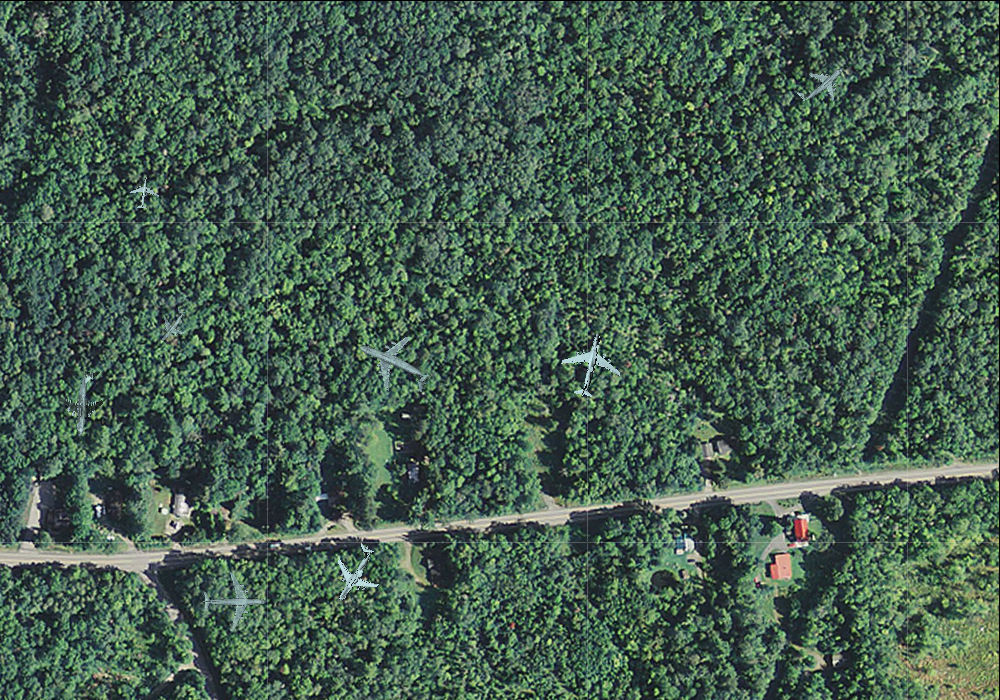plane: (344, 317, 442, 411), (313, 532, 394, 615), (553, 325, 628, 403), (787, 48, 856, 117), (54, 368, 115, 438), (202, 572, 266, 631), (147, 300, 196, 350), (127, 175, 160, 210)
